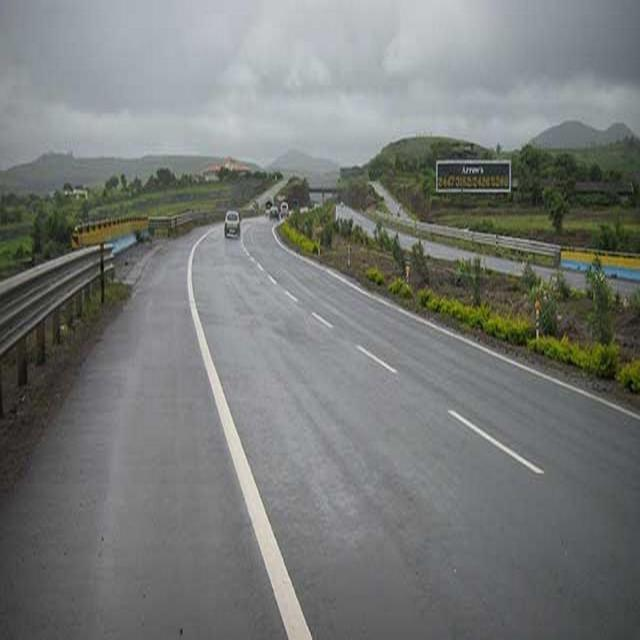Clean road: (2, 243, 640, 640)
